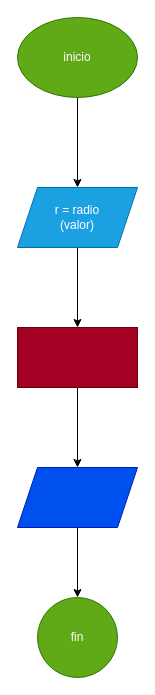
This 155x695 diagram has some shape labels left out. Each missing label, with the box of its shape:
a = pi*r**2 p = 2pi*r: (16, 326, 138, 388)
resultados area y perimetro: (16, 466, 138, 528)
